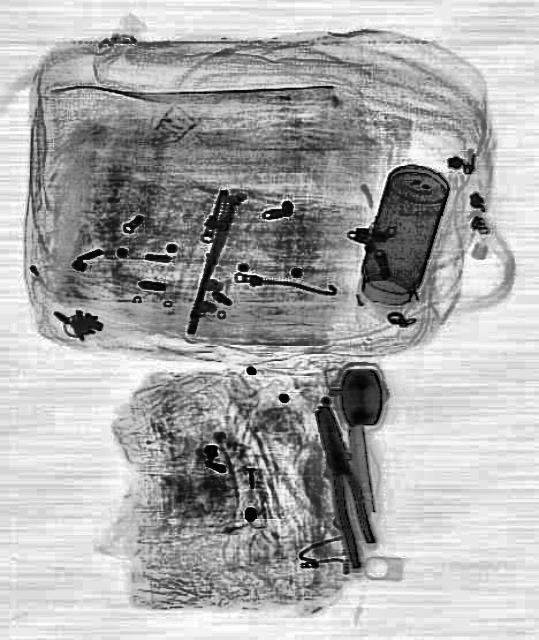Pliers: (310, 402, 378, 568)
